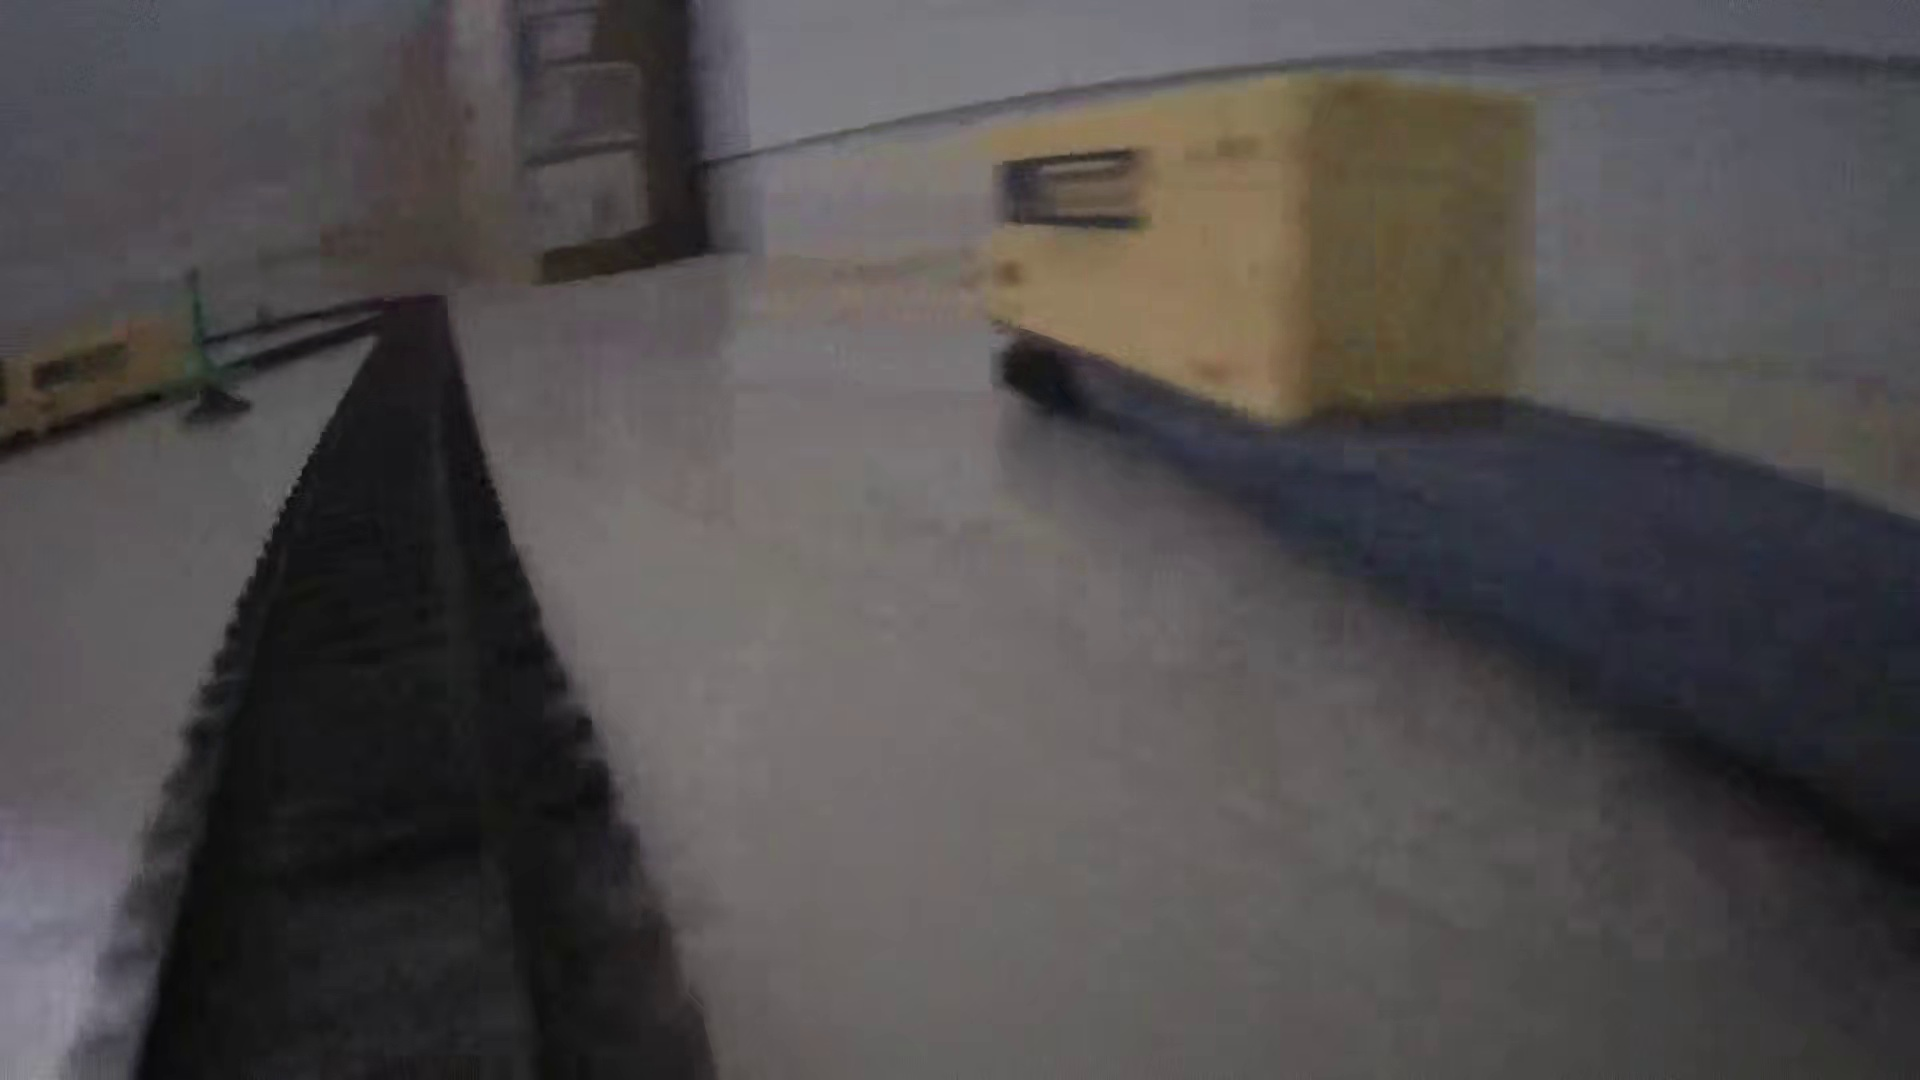tree: (151, 241, 260, 424)
